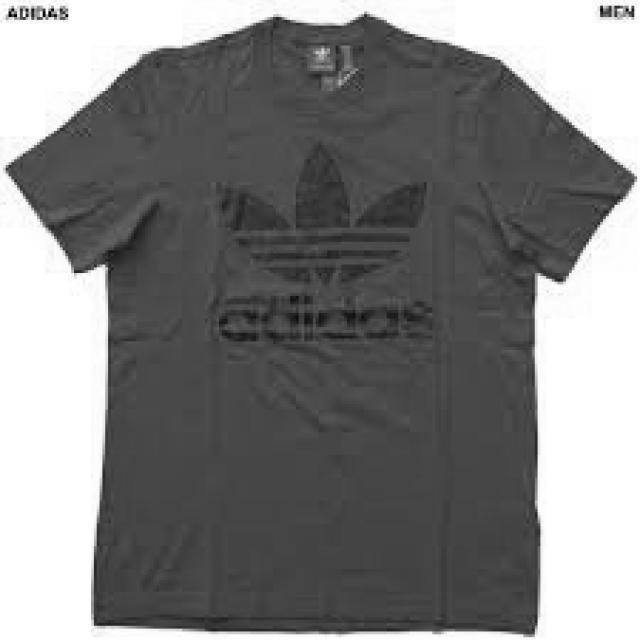Adidas: (192, 132, 443, 363)
